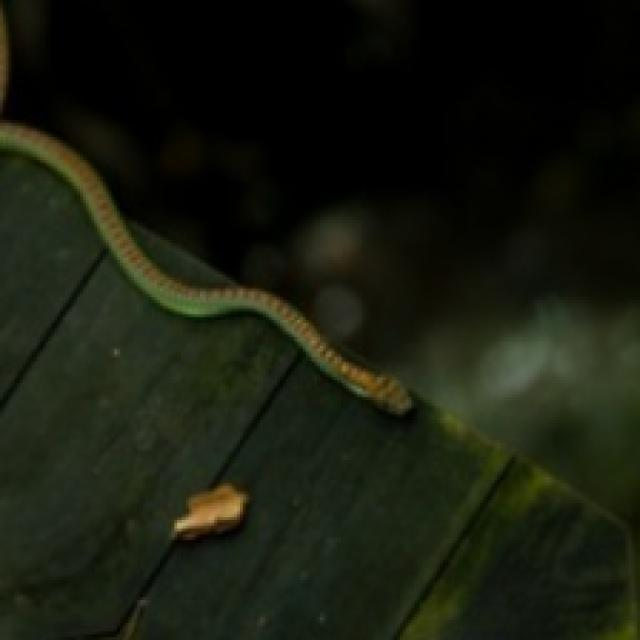paradise tree snake: (0, 123, 411, 414)
